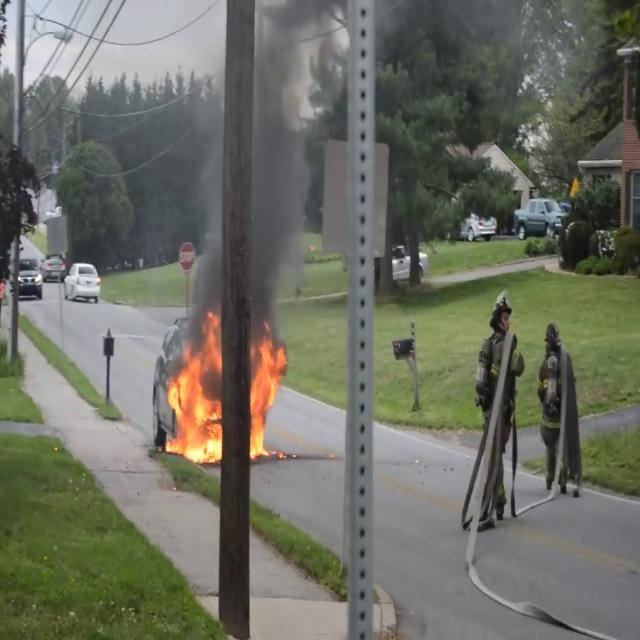Fire: (162, 316, 224, 468), (248, 324, 286, 458)
Smoke: (178, 1, 342, 352)
